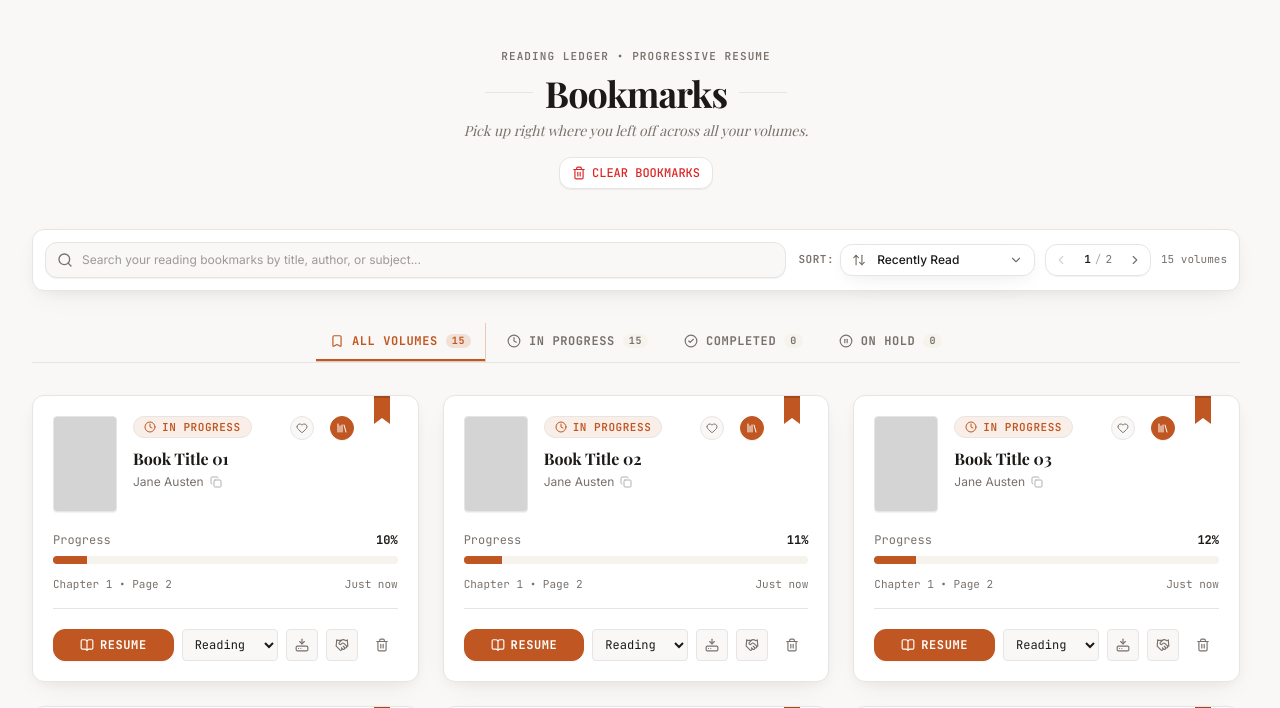
Test case: BookmarksView › renders pagination when volumes exceed 12 items and navigates between pages
The image size is (1280, 708).
Expected: the text "Book Title 01" is shown, [133,448,229,468]
Expected: the text "Book Title 13" is not shown
Note: Navigate to Next page (Page 2) via top pagination
What coordinates should you click on to do the following:
click the button named "Next page"
I would click on:
 (1135, 260)
Its box is [1122,246,1148,272].
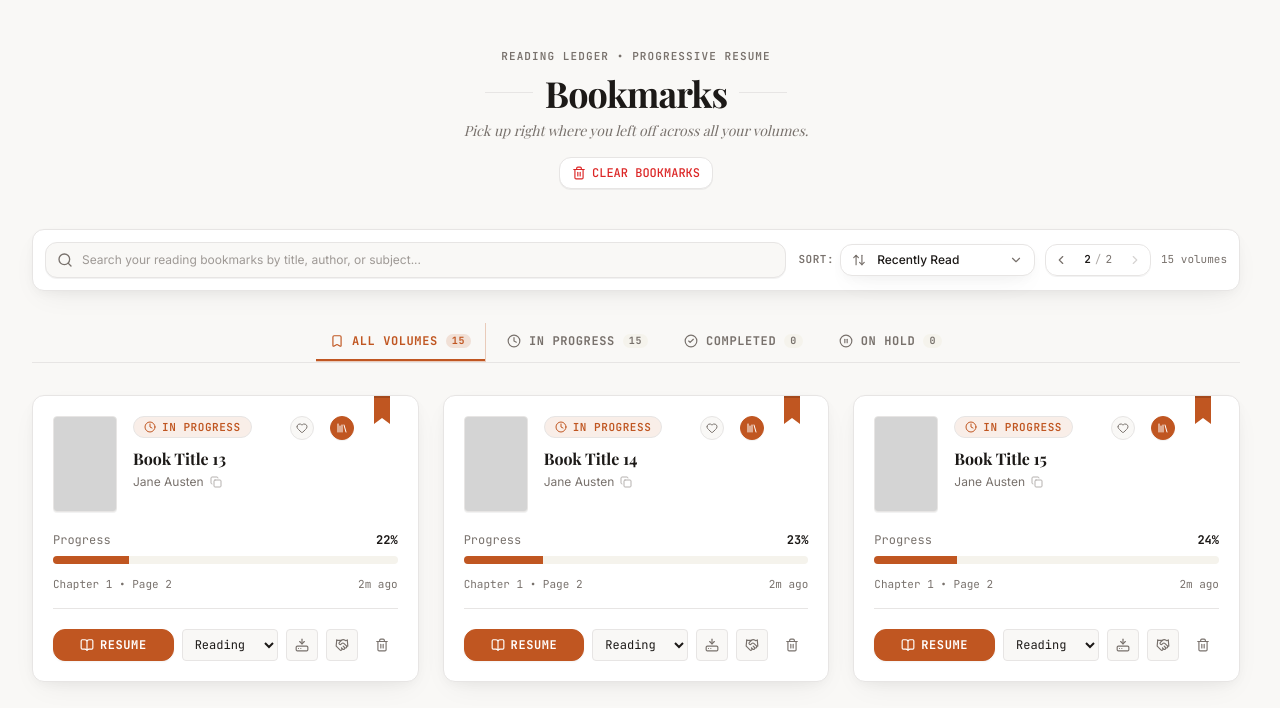
Expected: the button "Book Title 01" is gone
Expected: the text "Book Title 13" is shown, [133,448,226,468]
Expected: the text "Book Title 15" is shown, [954,448,1047,468]
